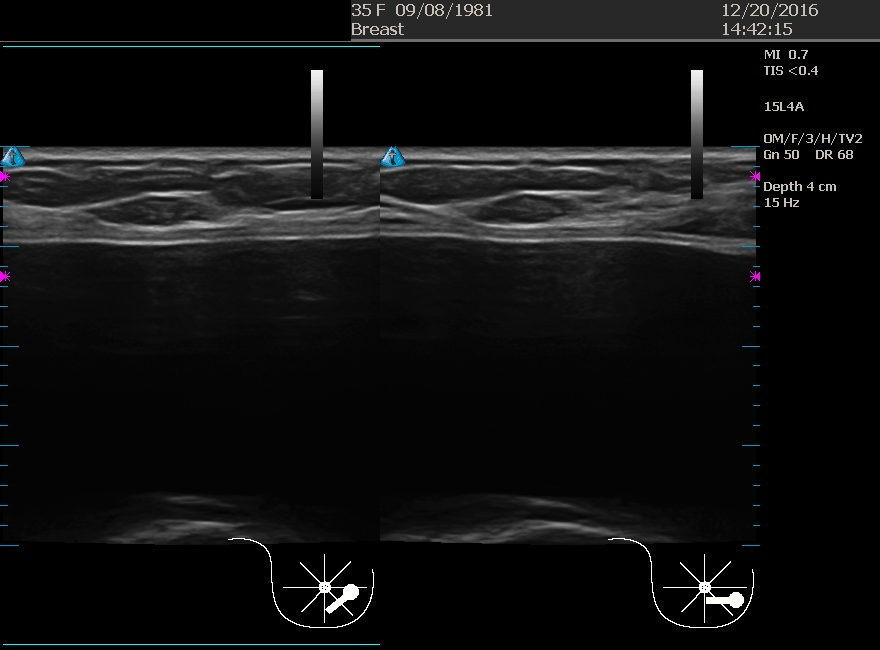BIRADS_2: (423, 152, 623, 352)
BIRADS_3: (60, 178, 260, 378)
